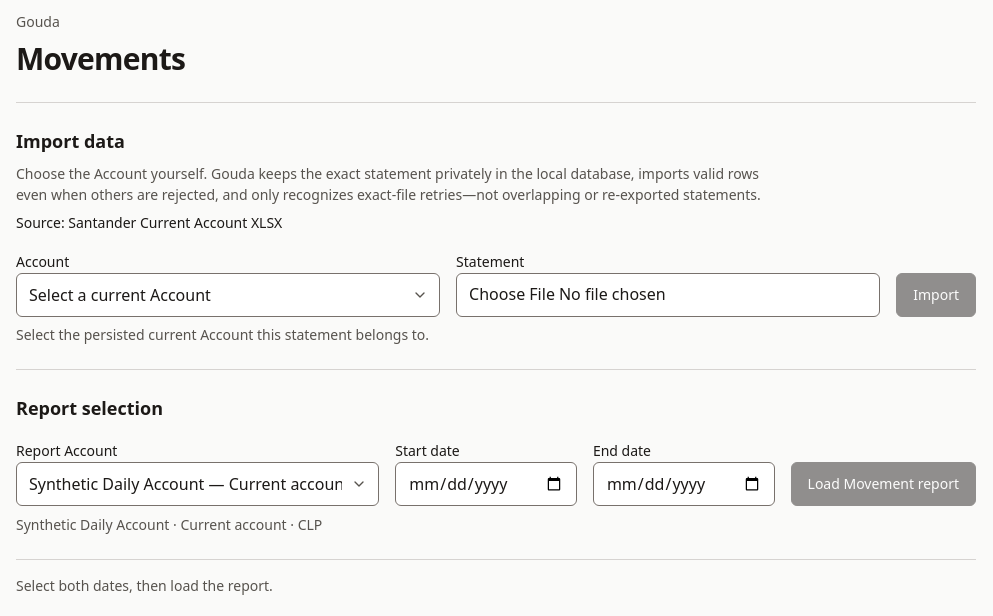
Test case: Gouda read-only report flow › renders the safe 404 account_not_accessible API error
Expected: the dropdown labelled "Report Account" is shown, left=16, top=462, right=379, bottom=506
Type "2026-05-01" into the date field labelled "Start date" at (486,484), box left=395, top=462, right=577, bottom=506
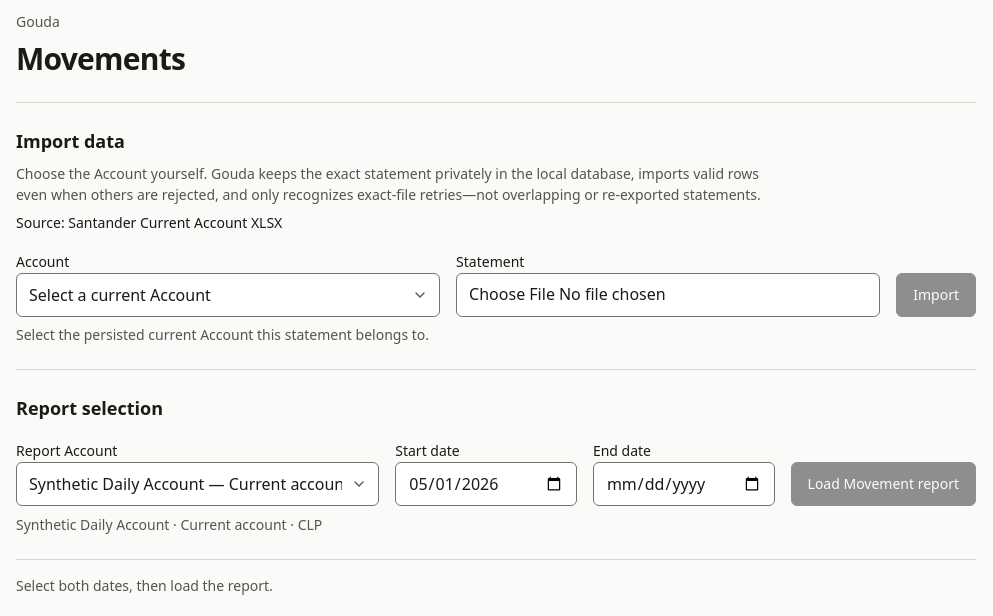
Type "2026-04-30" into the date field labelled "End date" at (684,484), box left=593, top=462, right=774, bottom=506
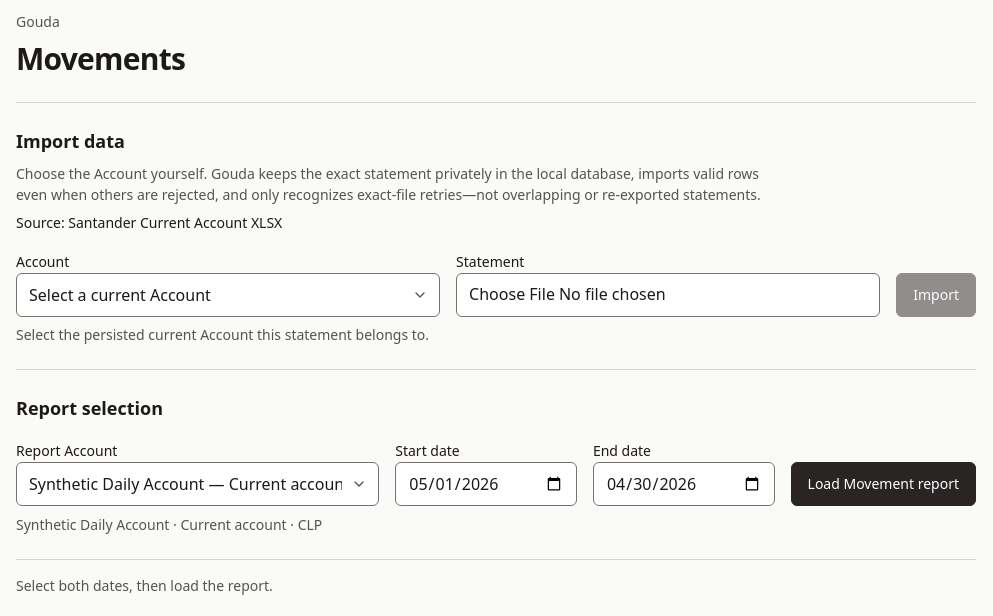
Click the button "Load Movement report" at (883,484), box left=790, top=462, right=976, bottom=506
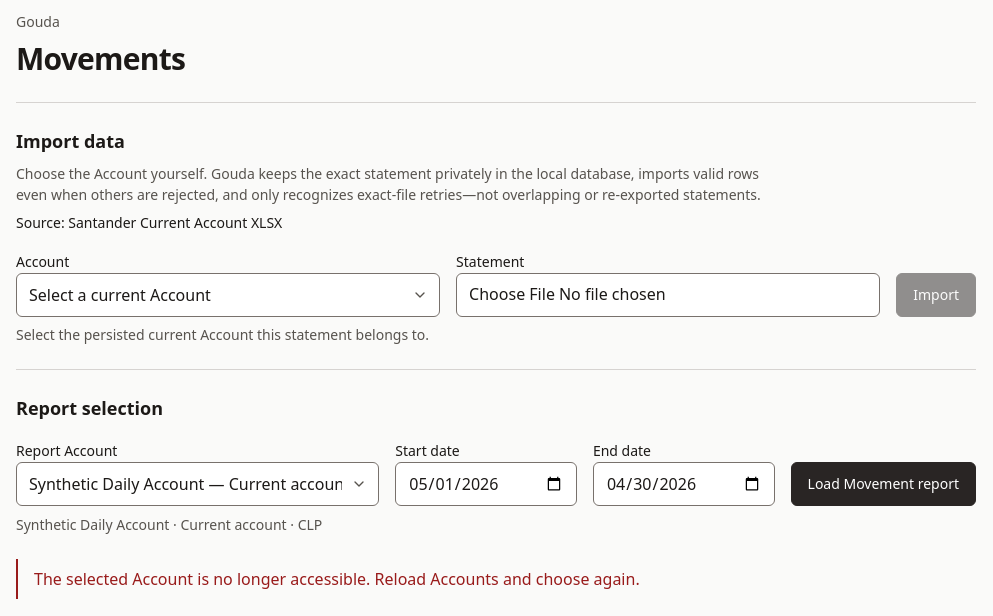
Expected: the text "The selected Account is no longer accessible. Reload Accounts and choose again." is shown, left=16, top=558, right=976, bottom=598
